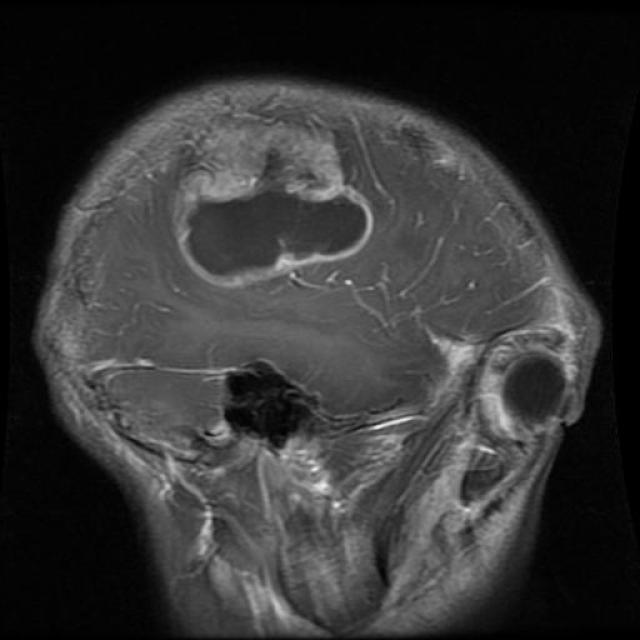glioma: (174, 130, 378, 288)
